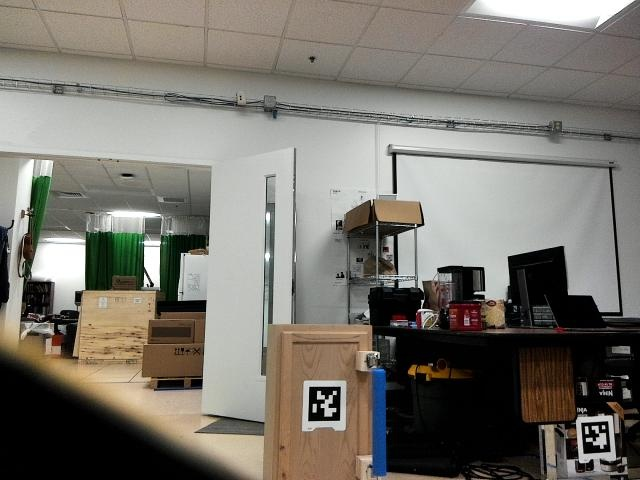noodle_handle: (362, 360, 396, 477)
